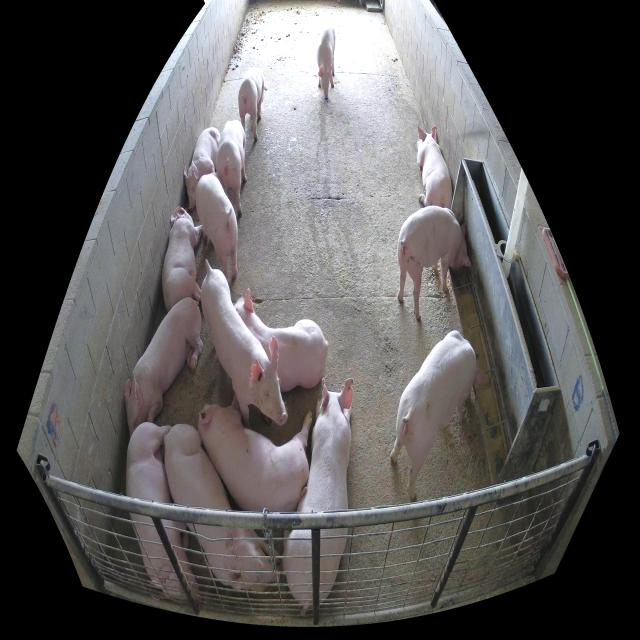pig: (164, 424, 281, 594), (283, 375, 352, 610), (390, 330, 476, 499), (201, 260, 288, 426), (126, 423, 204, 605), (198, 393, 313, 510), (125, 299, 203, 438), (234, 286, 330, 391), (397, 206, 472, 321), (196, 173, 238, 283), (161, 206, 202, 314), (416, 121, 452, 209), (215, 120, 247, 217), (183, 128, 220, 209), (238, 68, 271, 139), (315, 23, 337, 101)
